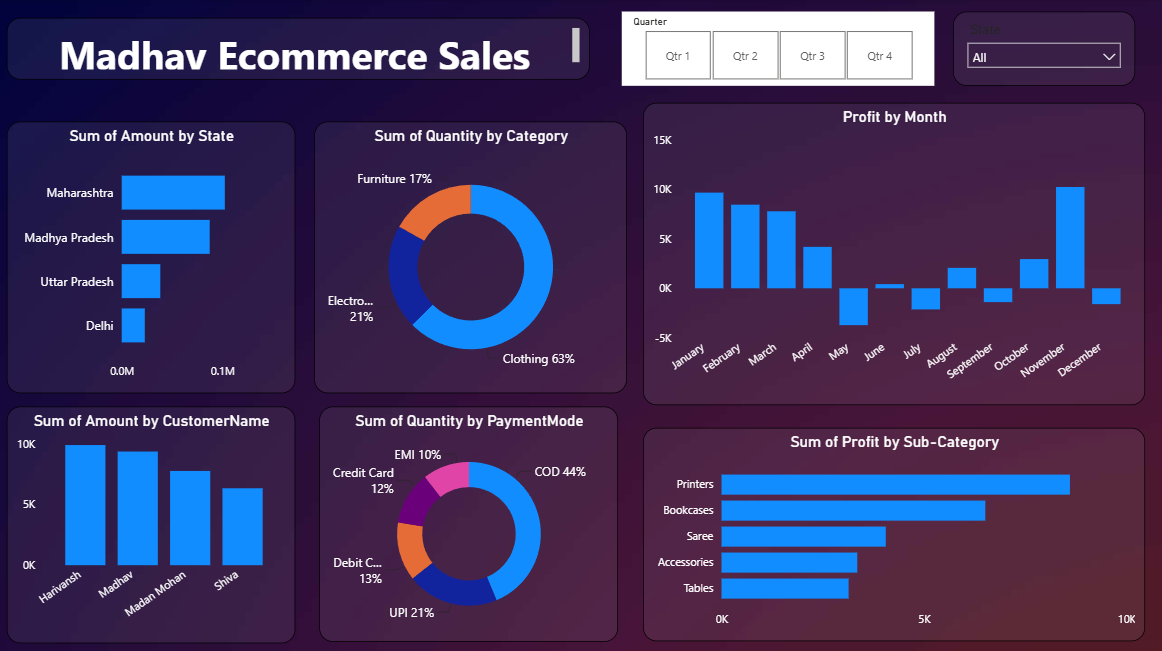

The page's visual inventory and layout, read from the dashboard file:
{"tool":"powerbi","page":{"name":"Page 1","canvas":[1280,720],"ordinal":0},"visuals":[{"type":"textbox","box":[10,20,640,68.3],"z":0},{"type":"columnChart","title":"Profit by Month","fields":{"Y":["Sum(Details.Profit)"],"Category":["Orders.Order Date.Variation.Date Hierarchy.Month"]},"box":[708.6,114.3,551.4,331.7],"z":1000},{"type":"barChart","fields":{"Category":["Details.Sub-Category"],"Y":["Sum(Details.Profit)"]},"box":[708.6,470,551.4,234.6],"z":2000},{"type":"donutChart","fields":{"Category":["Details.Category"],"Y":["Sum(Details.Quantity)"]},"box":[346.7,135,343.3,298.3],"z":3000},{"type":"donutChart","fields":{"Y":["Sum(Details.Quantity)"],"Category":["Details.PaymentMode"]},"box":[353.3,446.7,328.3,258.3],"z":4000},{"type":"barChart","fields":{"Category":["Orders.State"],"Y":["Sum(Details.Amount)"]},"box":[10,135,316.7,298.3],"z":5000},{"type":"columnChart","fields":{"Category":["Orders.CustomerName"],"Y":["Sum(Details.Amount)"]},"box":[10,446.7,316.7,260],"z":6000},{"type":"slicer","fields":{"Values":["Orders.State"]},"box":[1048.3,13.3,200,81.7],"z":8000},{"type":"slicer","fields":{"Values":["Orders.Order Date.Variation.Date Hierarchy.Quarter"]},"box":[685,13.3,343.3,81.7],"z":8001}]}

Visuals, with their boxes in screenshot pixels (x1, y1, x2, y2), scaled from the page's 1280x720 canvas onto the 1162x651 screenshot:
textbox: box(9, 18, 590, 80)
"Profit by Month" columnChart: box(643, 103, 1144, 403)
barChart - Details.Sub-Category x Sum(Details.Profit): box(643, 425, 1144, 637)
donutChart - Details.Category x Sum(Details.Quantity): box(315, 122, 626, 392)
donutChart - Sum(Details.Quantity) x Details.PaymentMode: box(321, 404, 619, 637)
barChart - Orders.State x Sum(Details.Amount): box(9, 122, 297, 392)
columnChart - Orders.CustomerName x Sum(Details.Amount): box(9, 404, 297, 639)
slicer - Orders.State: box(952, 12, 1133, 86)
slicer - Orders.Order Date.Variation.Date Hierarchy.Quarter: box(622, 12, 934, 86)
